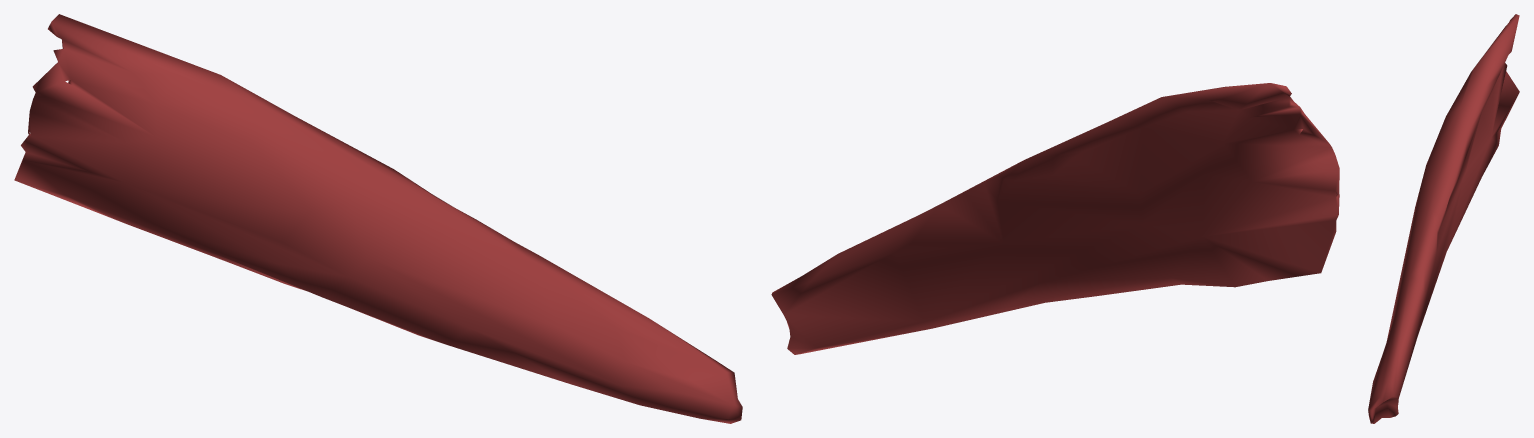
File: superficial-head-of-flexor-pollicis-brevis-l.glb
3 renders of one model, left to right at view 1: azimuth 30°, elevation 25°; view 2: azimuth 150°, elevation 25°; view 3: azimuth 270°, elevation 25°, orthographic. The views are drawn at different scales.
Visible parts, largest first — view 1: Superficial head of flexor pollicis brevis.l; view 2: Superficial head of flexor pollicis brevis.l; view 3: Superficial head of flexor pollicis brevis.l.
Boxes of the visible parts, bbox=[...] form: Superficial head of flexor pollicis brevis.l: bbox=[14, 14, 742, 423]; Superficial head of flexor pollicis brevis.l: bbox=[771, 83, 1339, 354]; Superficial head of flexor pollicis brevis.l: bbox=[1368, 14, 1519, 423].
Bounding box in the file's own units: 0.0434 × 0.0309 × 0.0165.
